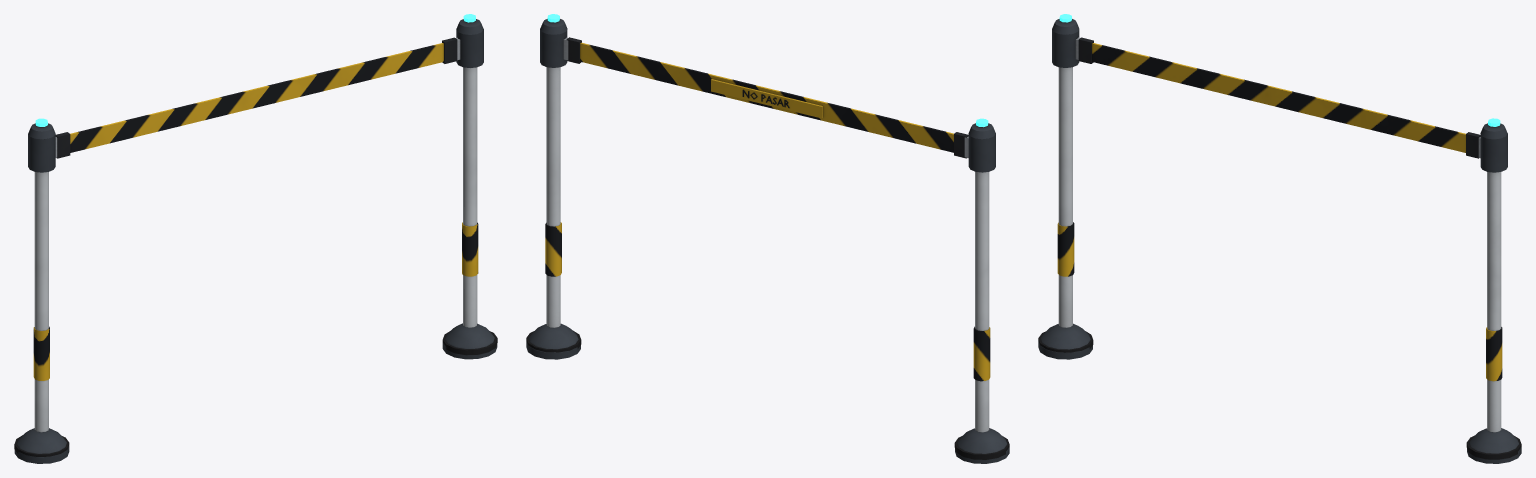
The model's file is barrera_seguridad.fbx.
3 renders of one model, left to right at view 1: azimuth 30°, elevation 25°; view 2: azimuth 150°, elevation 25°; view 3: azimuth 330°, elevation 25°, orthographic.
Parts seen in each view (by area): view 1: barrera_seguridad, barrera_seguridad_cinta; view 2: barrera_seguridad, barrera_seguridad_cinta; view 3: barrera_seguridad, barrera_seguridad_cinta.
Part boxes in pixels (x1,y1,x2,y2): barrera_seguridad: (14, 19, 497, 463); barrera_seguridad_cinta: (55, 37, 457, 158); barrera_seguridad: (526, 19, 1009, 463); barrera_seguridad_cinta: (566, 37, 968, 158); barrera_seguridad: (1038, 19, 1521, 463); barrera_seguridad_cinta: (1078, 37, 1480, 158).
Bounding box in the file's own units: 3 × 2 × 0.2943.
Materials: 2 (2 with a texture image).
